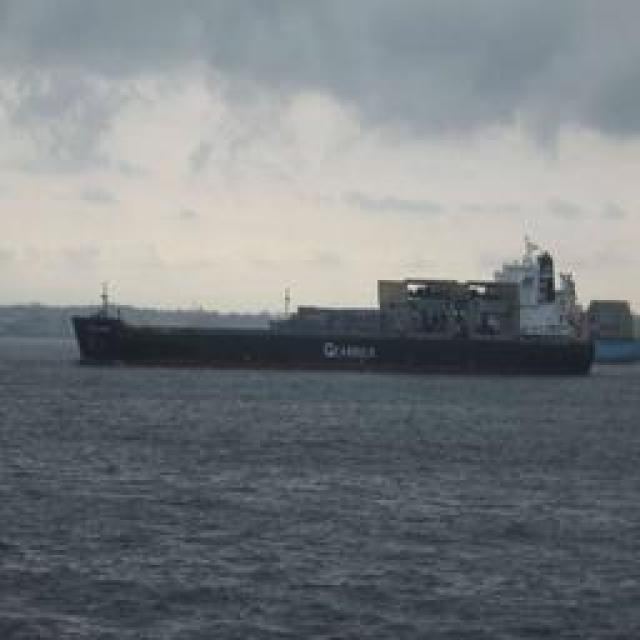CIV_Ship: (80, 248, 608, 374)
